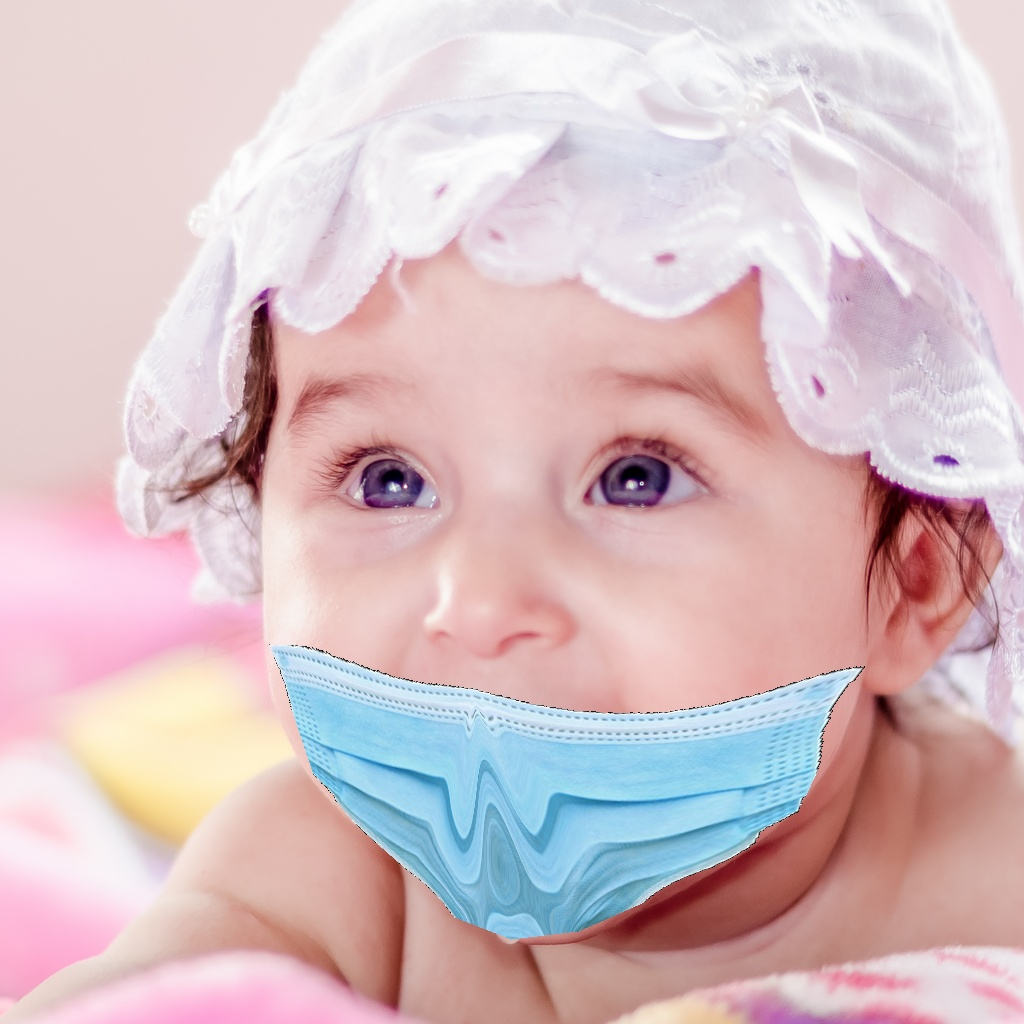mask_weared_incorrect: (259, 363, 815, 941)
